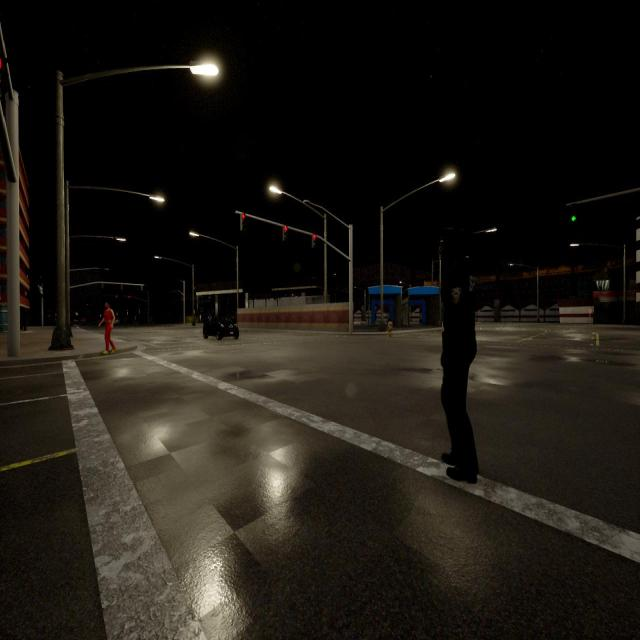Pedestrian: (441, 263, 478, 483), (99, 300, 115, 354), (387, 318, 393, 341)
Traffic_Signs: (588, 309, 592, 313)
Vehicle: (203, 315, 239, 340)
traffic_light: (0, 47, 8, 80), (571, 205, 576, 221), (241, 214, 246, 229), (283, 226, 288, 240), (312, 234, 316, 247), (102, 283, 104, 288), (120, 284, 122, 289), (141, 286, 143, 291), (116, 295, 118, 298), (128, 296, 130, 298)
